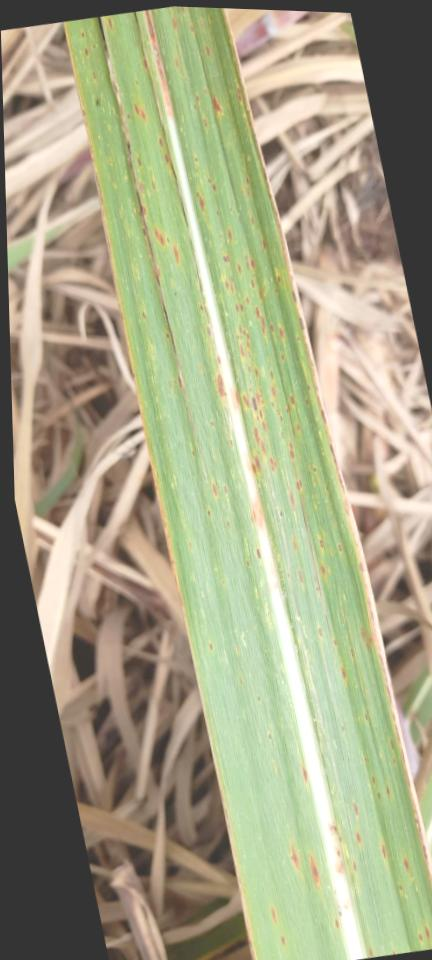RedRot: (144, 11, 173, 118), (326, 825, 346, 876), (251, 495, 266, 534)
Rust: (221, 8, 432, 891), (92, 18, 188, 399), (218, 222, 314, 479), (191, 85, 226, 131), (308, 853, 322, 888), (156, 136, 171, 166), (152, 225, 170, 249), (289, 839, 302, 872), (358, 626, 373, 653), (200, 173, 217, 194), (194, 187, 208, 211), (133, 102, 148, 124), (416, 925, 432, 944), (241, 172, 252, 198), (216, 371, 225, 399), (400, 854, 413, 872), (288, 486, 297, 512), (269, 904, 279, 925), (173, 242, 182, 265), (354, 828, 365, 845), (379, 841, 389, 859), (210, 478, 219, 498), (169, 17, 180, 33), (222, 479, 231, 497), (302, 764, 310, 784), (203, 44, 212, 60), (339, 666, 348, 682), (235, 84, 242, 104), (298, 565, 305, 585), (203, 324, 213, 338), (388, 736, 396, 753), (187, 20, 196, 35), (294, 478, 303, 493), (248, 214, 257, 228), (350, 859, 358, 874), (316, 625, 324, 640), (292, 535, 299, 552), (279, 934, 288, 947), (141, 58, 149, 72), (352, 800, 359, 816), (384, 784, 392, 798), (333, 917, 341, 930), (80, 28, 87, 42), (255, 547, 262, 561), (370, 775, 379, 785), (349, 647, 357, 658), (93, 97, 101, 108), (319, 564, 327, 575), (83, 46, 90, 57), (337, 542, 344, 553), (318, 539, 325, 550), (206, 506, 213, 517), (107, 19, 114, 29), (376, 792, 383, 801), (198, 303, 205, 312), (92, 71, 98, 81), (333, 637, 338, 646)
